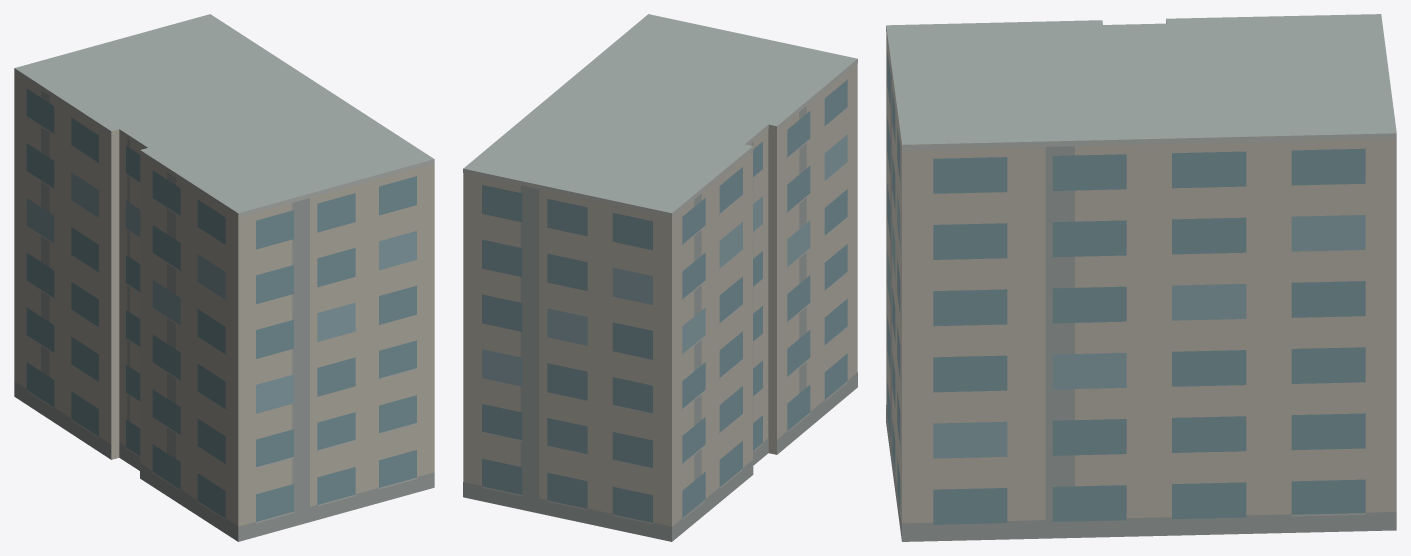
File: survey-upis-32627914.glb
The picture shows the model from 3 angles, left to right: view 1: azimuth 30°, elevation 25°; view 2: azimuth 150°, elevation 25°; view 3: azimuth 270°, elevation 25°; orthographic projection. The views are drawn at different scales.
Visible parts, largest first — view 1: survey-upis-32627914.tmp; view 2: survey-upis-32627914.tmp; view 3: survey-upis-32627914.tmp.
Part boxes in pixels (x1,y1,x2,y2): survey-upis-32627914.tmp: (14, 14, 434, 541); survey-upis-32627914.tmp: (463, 14, 857, 541); survey-upis-32627914.tmp: (886, 14, 1396, 541).
Bounding box in the file's own units: 12.66 × 17.9 × 20.87.
